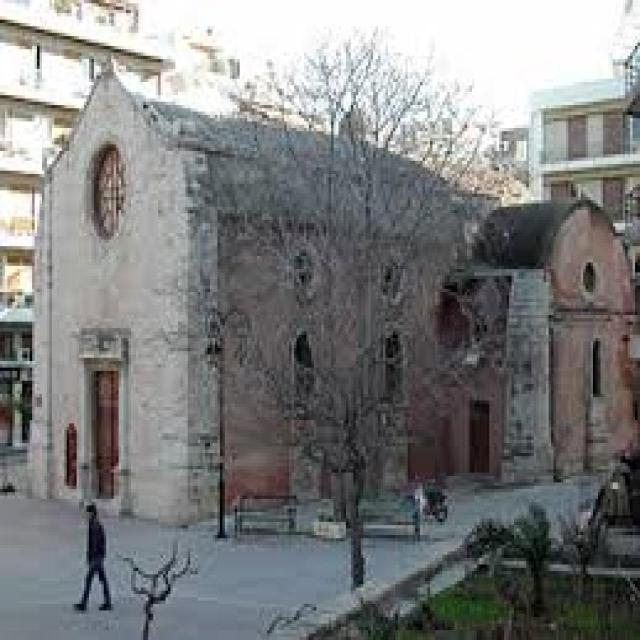Agia Aikaterini: (31, 55, 631, 526)
